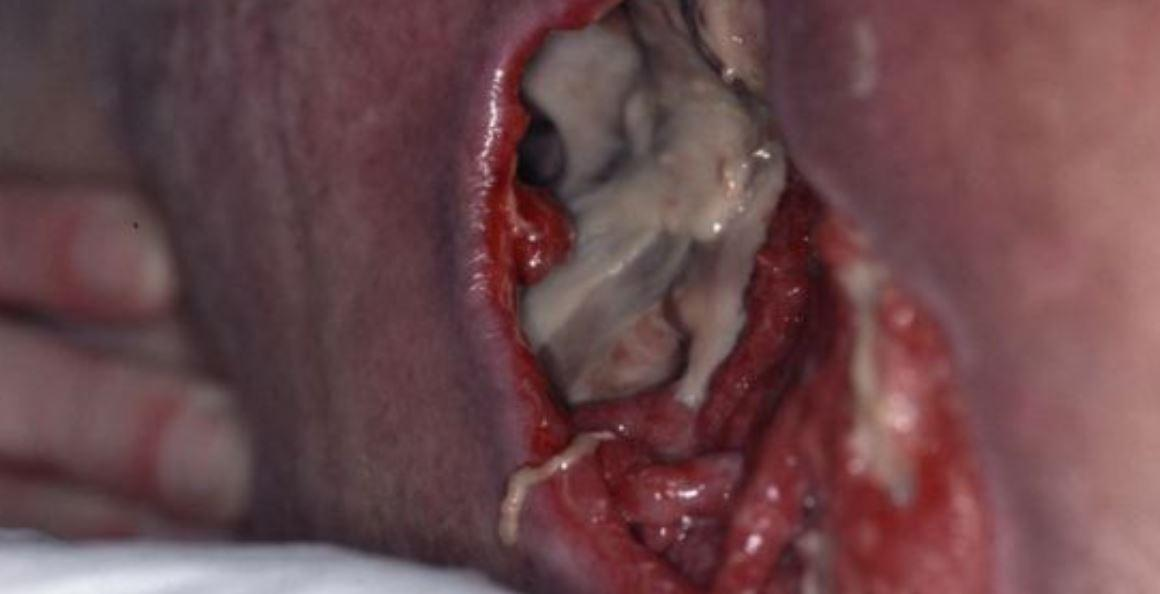Stage4: (474, 7, 1048, 588)
